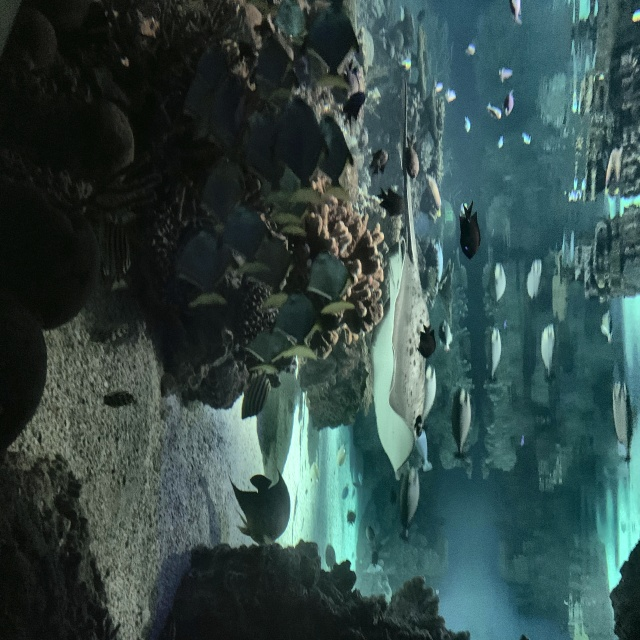fish: (170, 217, 232, 310), (227, 466, 295, 550), (301, 0, 361, 91), (274, 91, 328, 192), (214, 202, 273, 277), (270, 285, 324, 365), (243, 97, 285, 196), (250, 231, 295, 310), (198, 152, 243, 229), (307, 249, 355, 315), (318, 113, 355, 190), (100, 216, 136, 295), (245, 319, 292, 373), (610, 380, 636, 465), (396, 462, 424, 540), (449, 385, 473, 459), (237, 371, 270, 423), (457, 203, 481, 260), (422, 170, 445, 220), (484, 323, 504, 380), (340, 87, 367, 129), (419, 364, 438, 421), (426, 238, 444, 295), (538, 324, 556, 379), (524, 255, 543, 304), (413, 421, 431, 470), (375, 187, 403, 218), (103, 387, 137, 411), (416, 322, 437, 360), (490, 260, 507, 304), (405, 133, 421, 174), (438, 318, 454, 356), (368, 146, 389, 174), (598, 306, 612, 347), (364, 547, 383, 576), (324, 544, 338, 573), (335, 436, 348, 466), (507, 0, 521, 25), (503, 89, 515, 117), (308, 460, 320, 488), (485, 102, 502, 121), (496, 65, 513, 84), (364, 523, 375, 545), (518, 132, 532, 149), (444, 88, 457, 103), (340, 482, 349, 503), (463, 116, 472, 135), (350, 463, 357, 487), (465, 43, 476, 58), (496, 133, 503, 149), (357, 470, 364, 486), (434, 82, 443, 94), (36, 504, 37, 505)
stingray: (391, 238, 434, 441)
